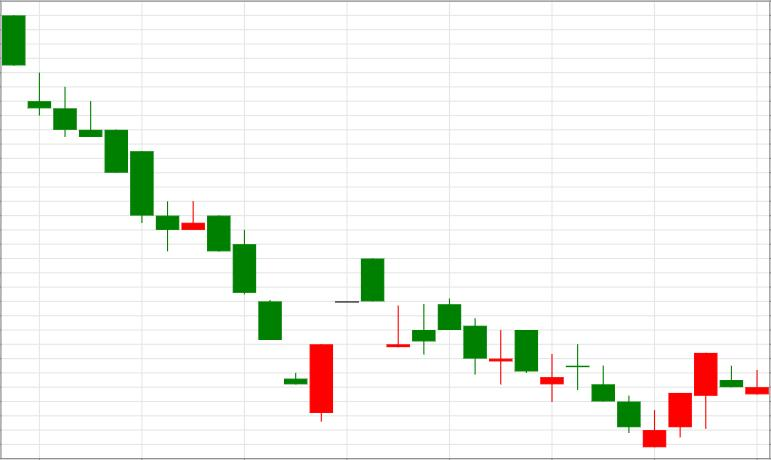bullish_engulfing_rise: (208, 216, 333, 422)
three_white_soldiers_rise: (566, 344, 718, 448)
